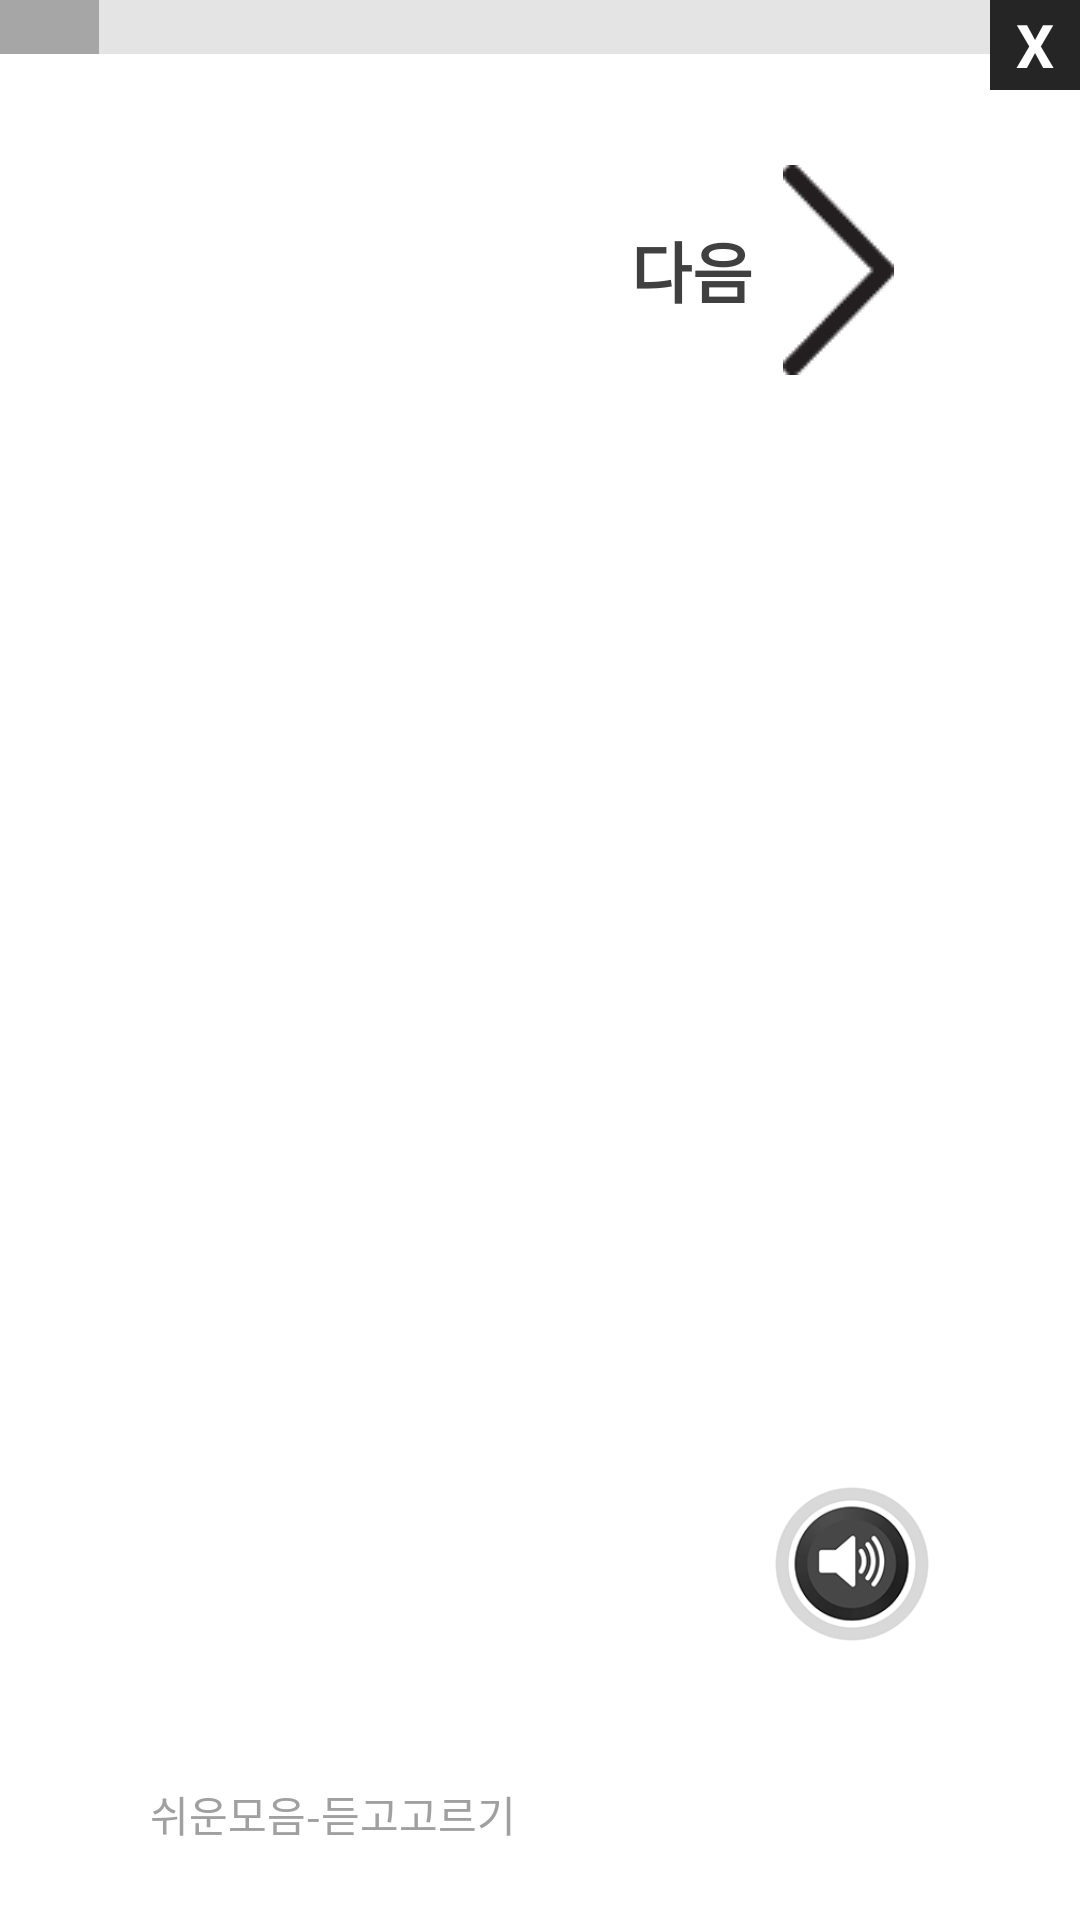

Named icons in this screenshot (1080×1920) and their centers, [x,y]:
playbutton: [852,1564]
